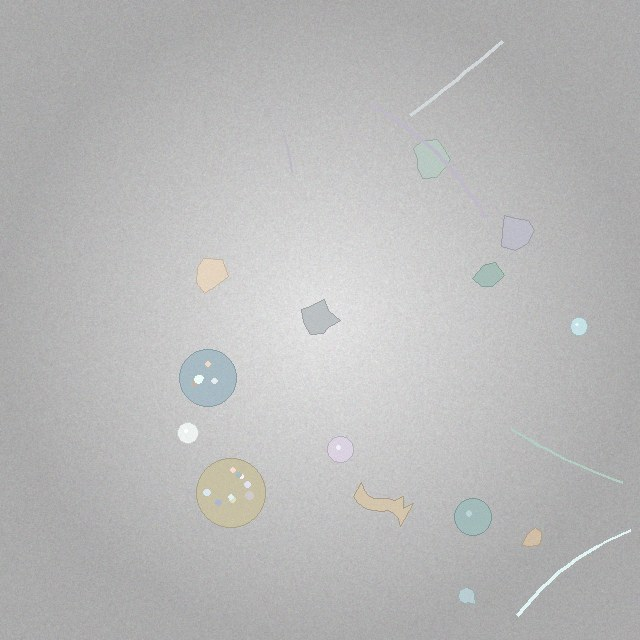fiber: (367, 100, 490, 221), (514, 527, 634, 620), (407, 38, 507, 119), (508, 426, 626, 486), (265, 96, 294, 174)
film: (354, 482, 414, 526)
foam: (197, 458, 265, 527), (180, 350, 236, 406)
fragment: (413, 139, 451, 178), (301, 300, 340, 334), (502, 215, 535, 250), (197, 258, 229, 294), (473, 262, 504, 287), (522, 527, 542, 547), (459, 588, 476, 604)
pellet: (454, 498, 492, 536), (328, 437, 354, 463), (177, 422, 199, 444), (570, 318, 588, 335)
